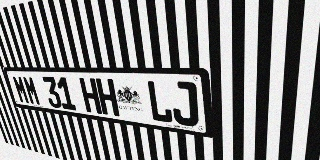1: (55, 77, 76, 111)
3: (42, 76, 63, 109)
H: (95, 78, 120, 116), (79, 78, 102, 114)
J: (170, 81, 199, 127)
L: (146, 80, 173, 124)
M: (22, 76, 41, 106), (12, 75, 30, 104)
